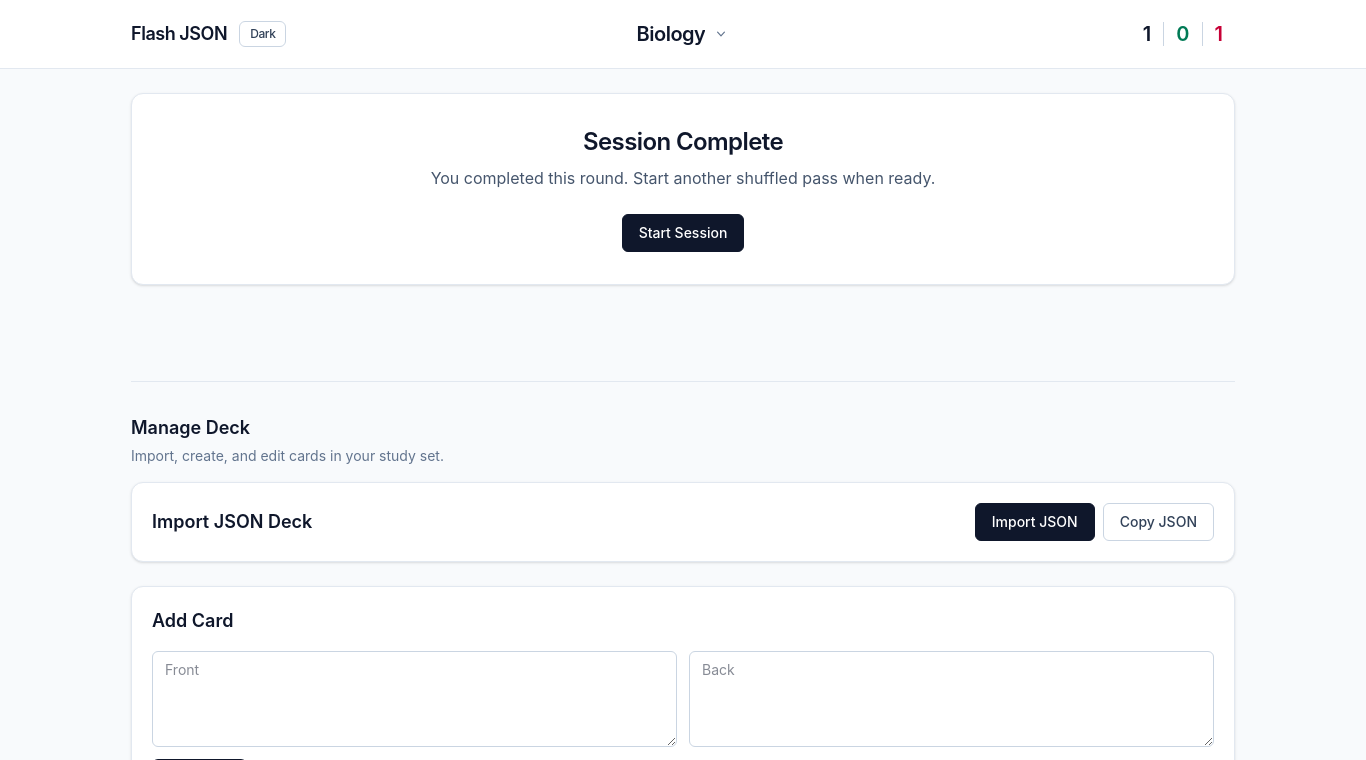
Test: FlashcardApp with study sets › renames the active set
The width and height of the screenshot is (1366, 760).
Click the button with aria-label "Study set:" at (683, 34), box [625,16,741,52]
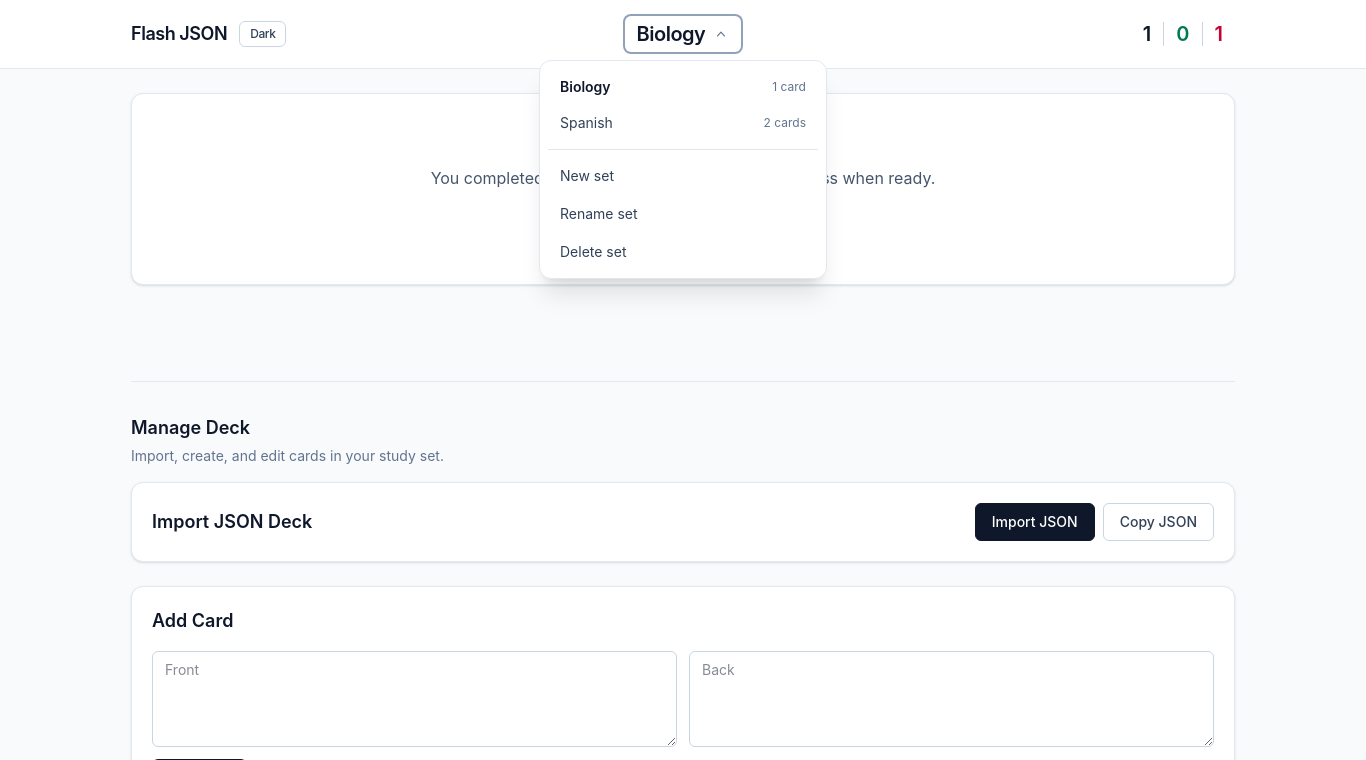
Click the button "Rename set" at (599, 214), box [548,196,818,232]
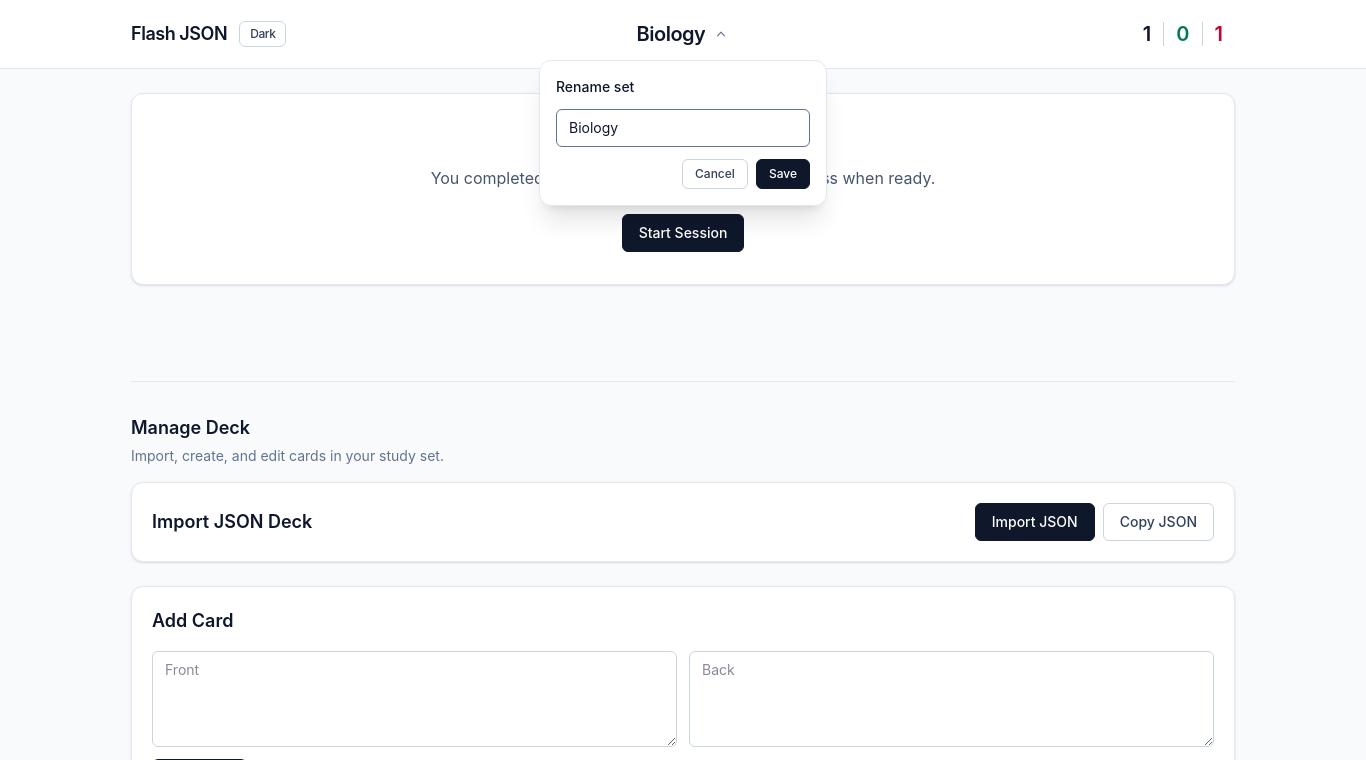
Expected: the field labelled "Rename set" holds "Biology"
Replace the text in the field labelled "Rename set" with "Bio 101" at (683, 128), box [556,109,810,147]
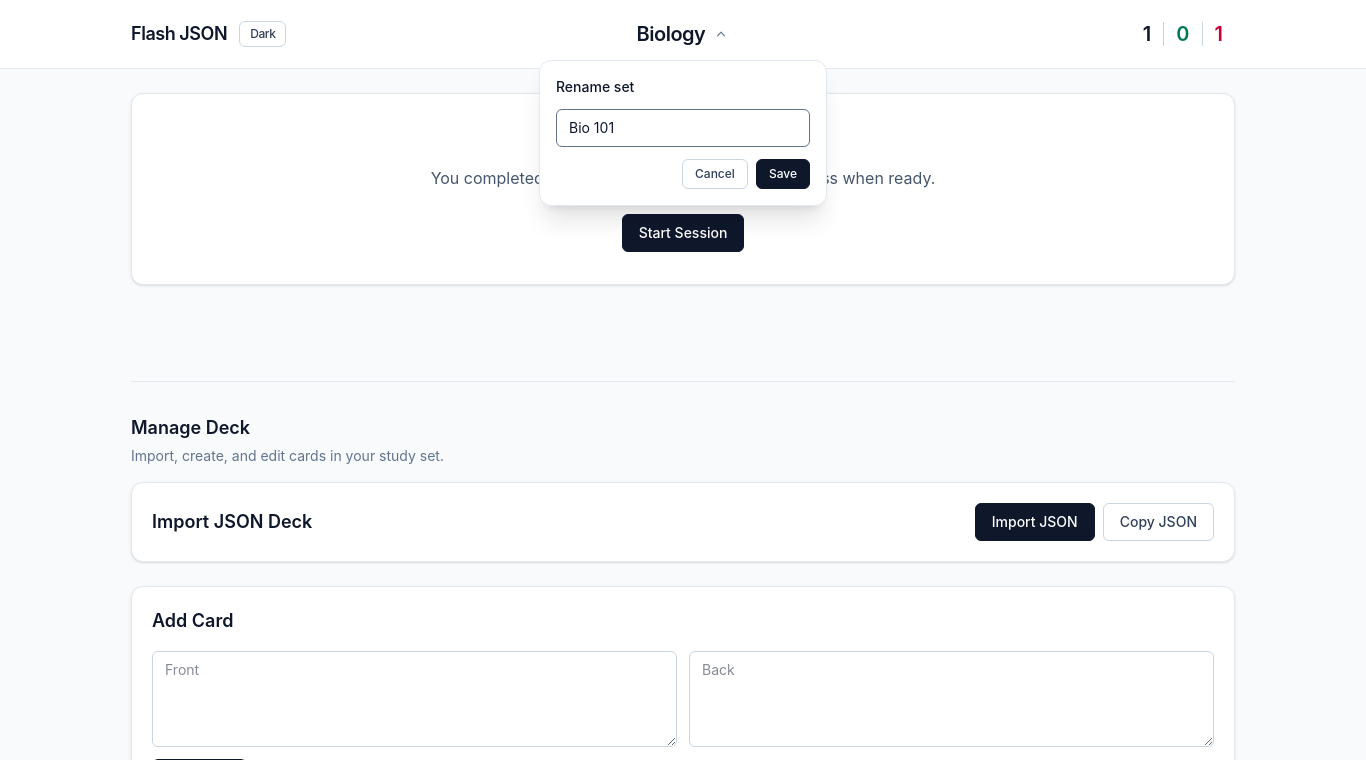
Click the button "Save" at (783, 174), box [756,159,810,189]
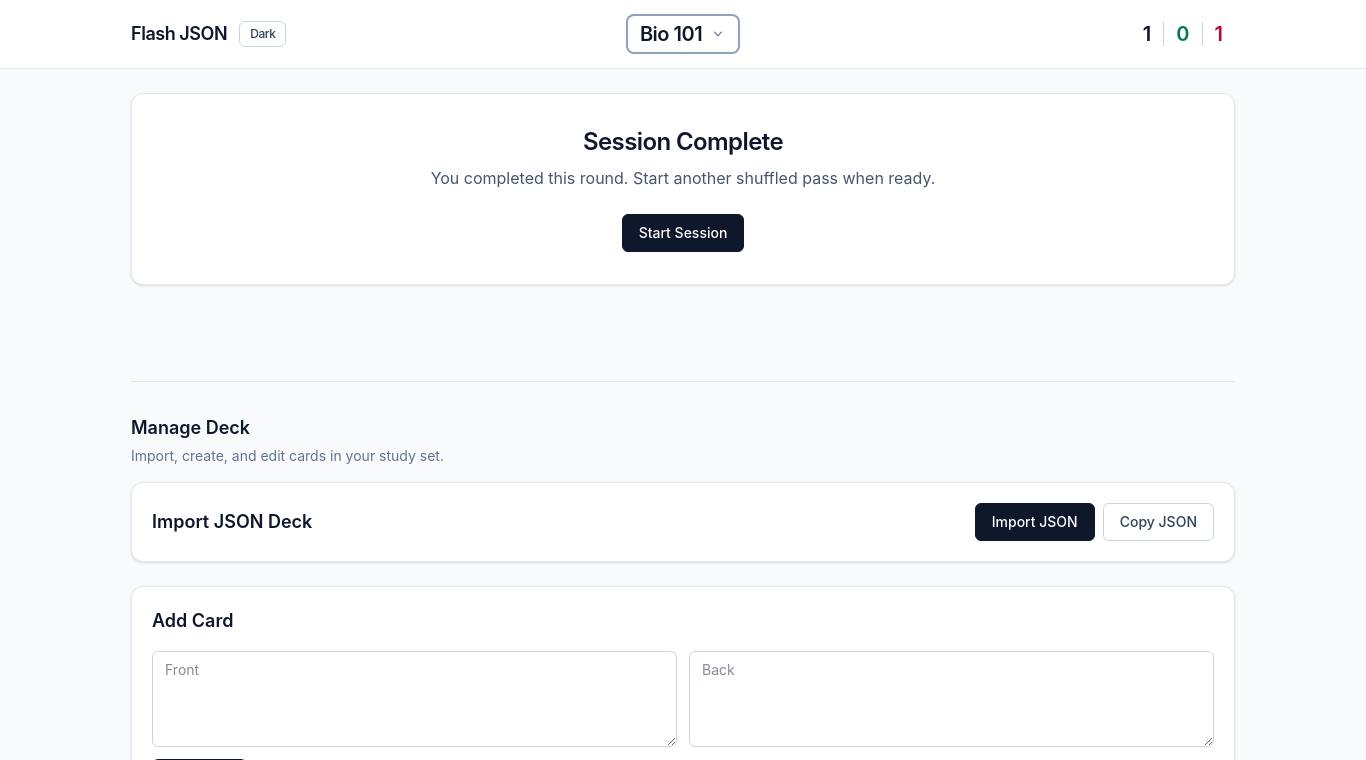
Expected: the button with aria-label "Study set:" reads "Bio 101", [628,16,738,52]
